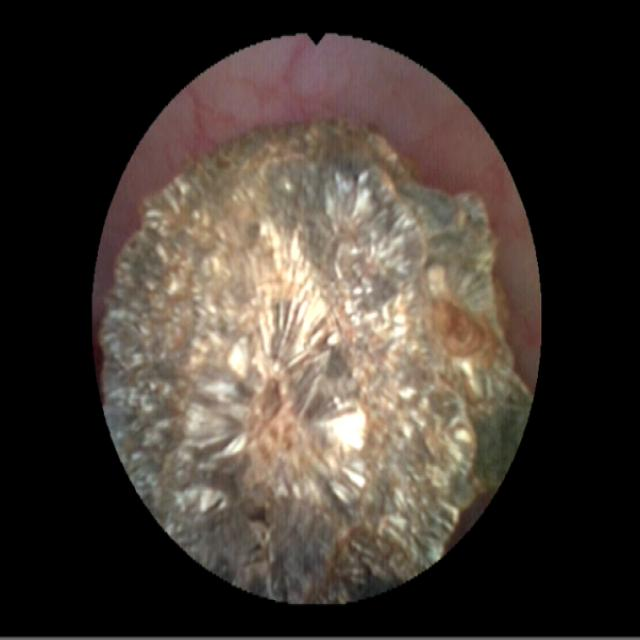stone: (99, 123, 530, 594)
